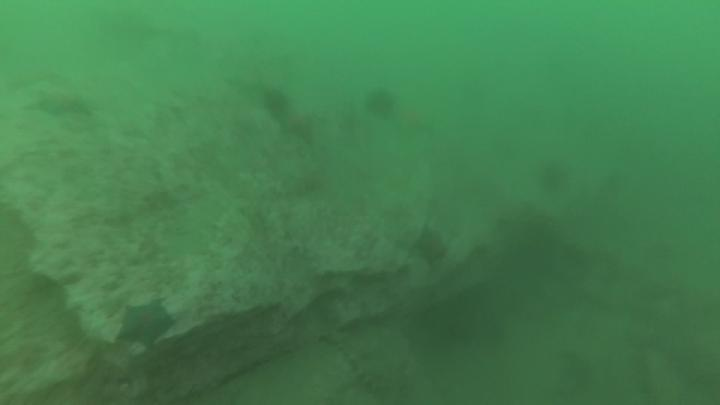echinus: (537, 159, 574, 199), (363, 85, 400, 122), (262, 85, 290, 120)
starfish: (116, 300, 178, 353), (26, 86, 92, 123), (277, 101, 317, 150), (413, 225, 452, 270)
